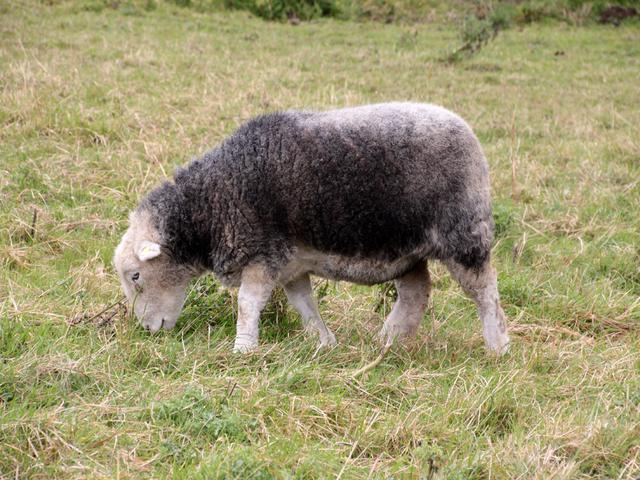sheep: (44, 77, 544, 373)
